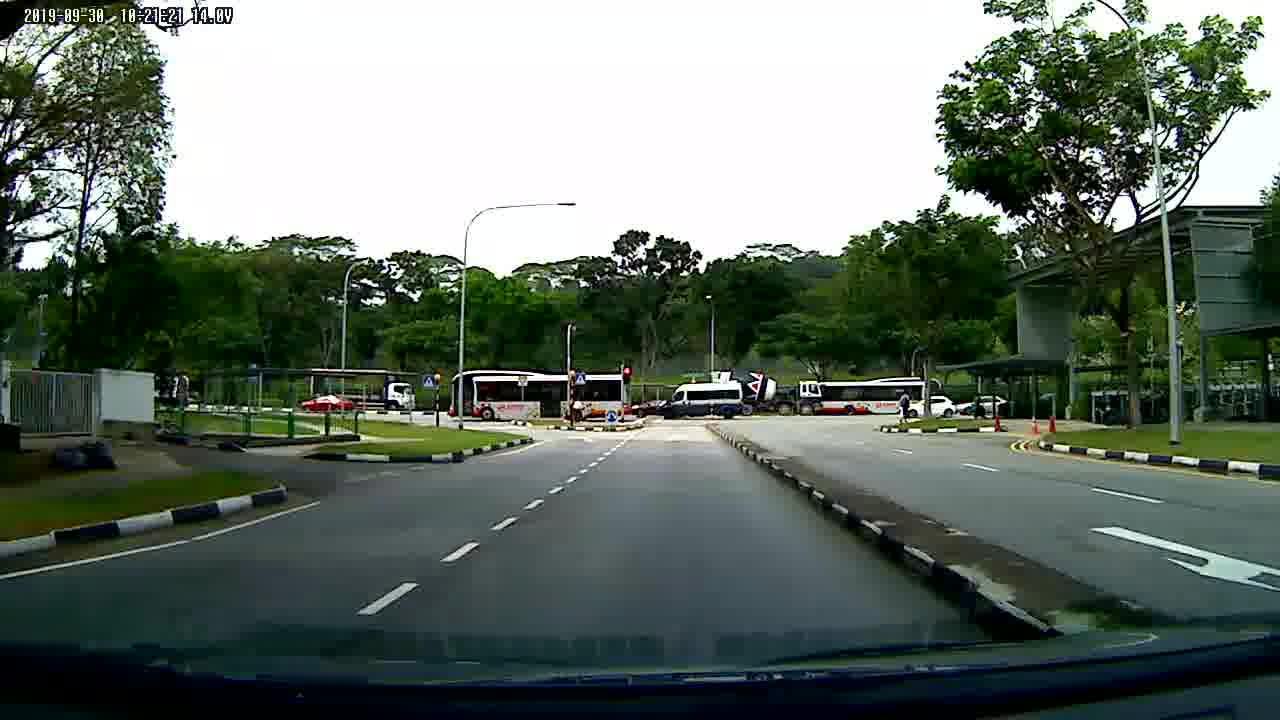bus: (448, 369, 631, 424), (822, 375, 942, 414)
car: (909, 398, 959, 421), (299, 395, 357, 413), (959, 395, 1009, 412)
